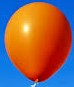Balloon: (5, 2, 72, 81)
